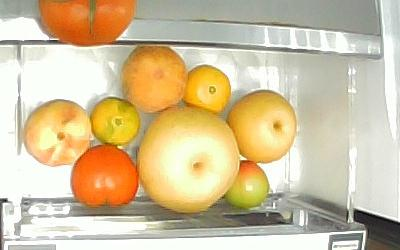peach: (22, 97, 92, 167), (119, 43, 189, 112)
pear: (135, 103, 240, 214), (225, 88, 297, 163)
tangerine: (180, 62, 231, 115), (88, 95, 140, 145)
tomato: (68, 142, 139, 208), (222, 158, 269, 208)
